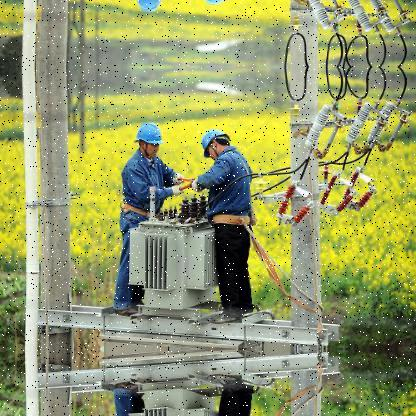helmet: (136, 119, 166, 157), (200, 124, 233, 158), (135, 0, 166, 12), (200, 0, 234, 7)
